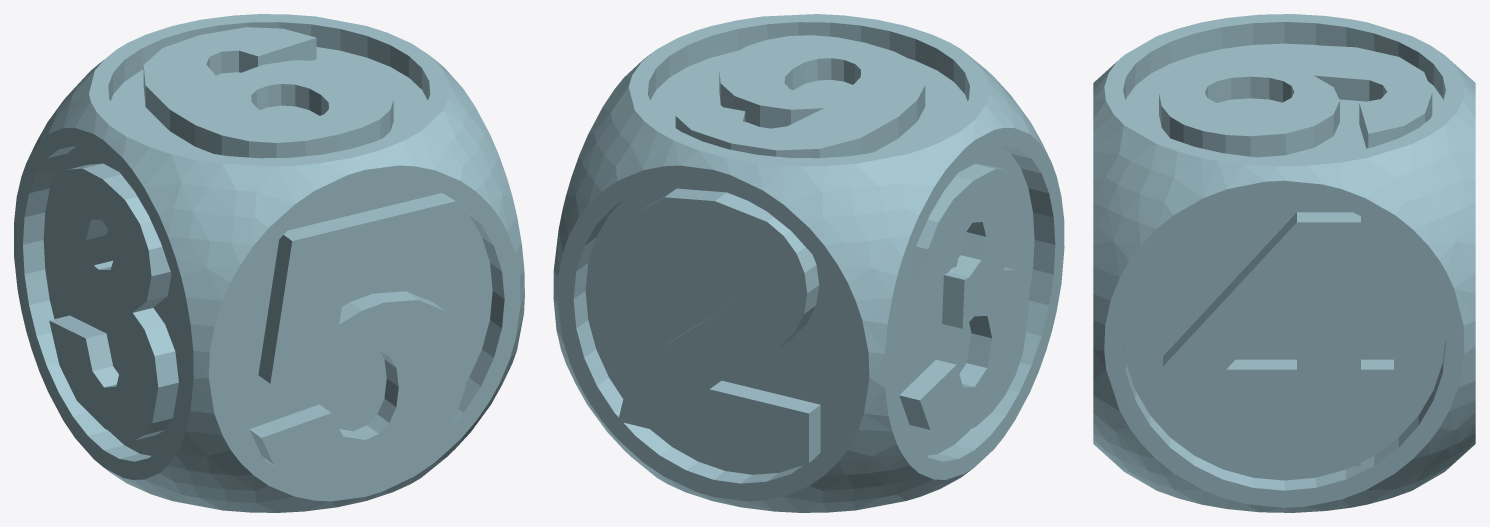
File: lukedice.glb
The picture shows the model from 3 angles, left to right: view 1: azimuth 30°, elevation 25°; view 2: azimuth 150°, elevation 25°; view 3: azimuth 270°, elevation 25°; orthographic projection.
Visible parts, largest first — view 1: Mesh_Mesh_head_geo.001_lambert2SG.001; view 2: Mesh_Mesh_head_geo.001_lambert2SG.001; view 3: Mesh_Mesh_head_geo.001_lambert2SG.001.
Boxes of the visible parts, <box> form: Mesh_Mesh_head_geo.001_lambert2SG.001: <box>14,14,524,512</box>; Mesh_Mesh_head_geo.001_lambert2SG.001: <box>553,14,1064,512</box>; Mesh_Mesh_head_geo.001_lambert2SG.001: <box>1093,14,1475,512</box>.
Size of the model in its own units: 16 by 16 by 16.
